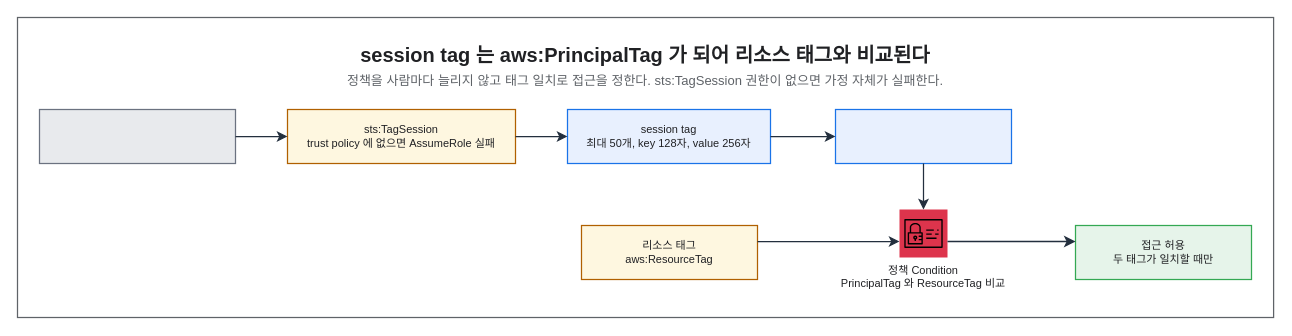
The diagram is 1292 pixels wide and 336 high, and some of its shapes have lost their labels. The shapes that lost their labels are listed below. From the top down, each one's centre as x and y in pixels, then its label:
At [137,136]: "IdP 속성 SAML attribute 또는 JWT claim".
At [923,136]: "aws:PrincipalTag request context 에 들어간다".
